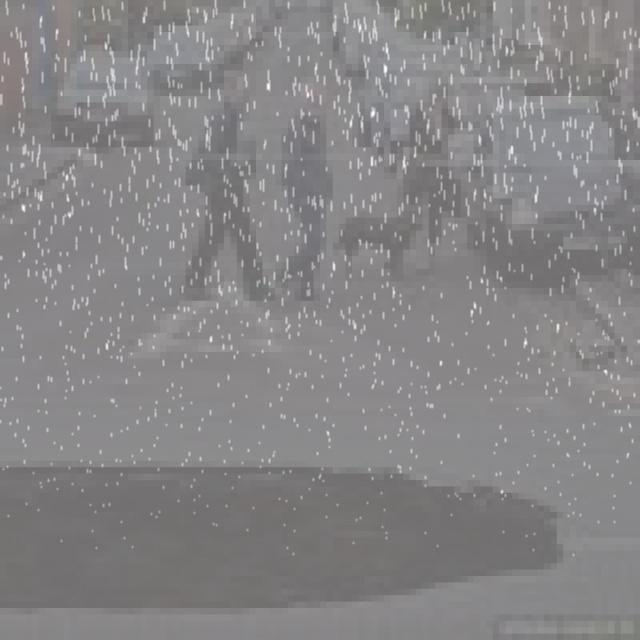Pothole: (0, 453, 588, 625)
